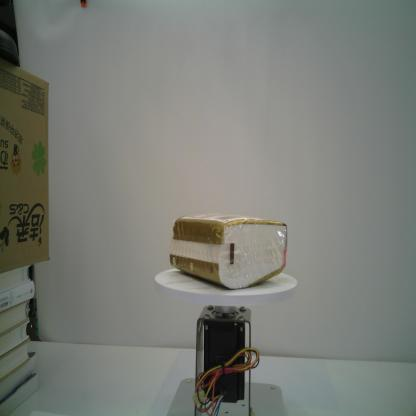Tissue: (168, 212, 288, 291)
